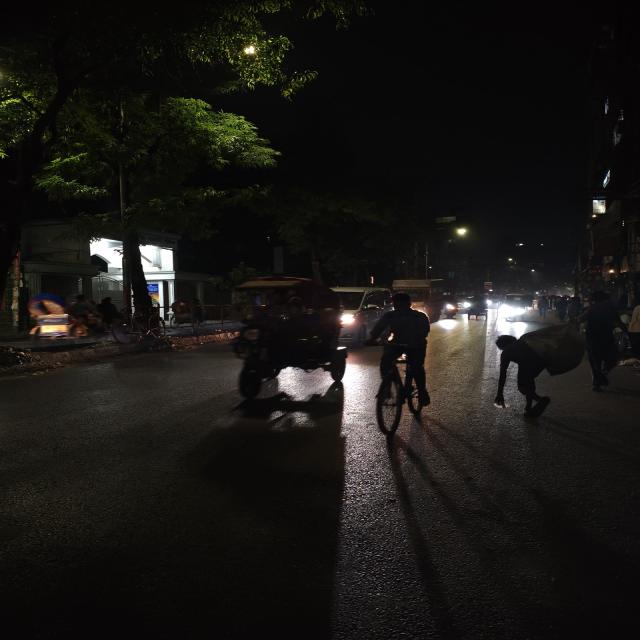pedestrian: (371, 293, 444, 401), (490, 333, 560, 419), (576, 290, 625, 396), (564, 293, 581, 323), (553, 294, 570, 323)
rickshaw: (218, 272, 350, 436), (15, 290, 106, 345), (465, 297, 490, 323)
